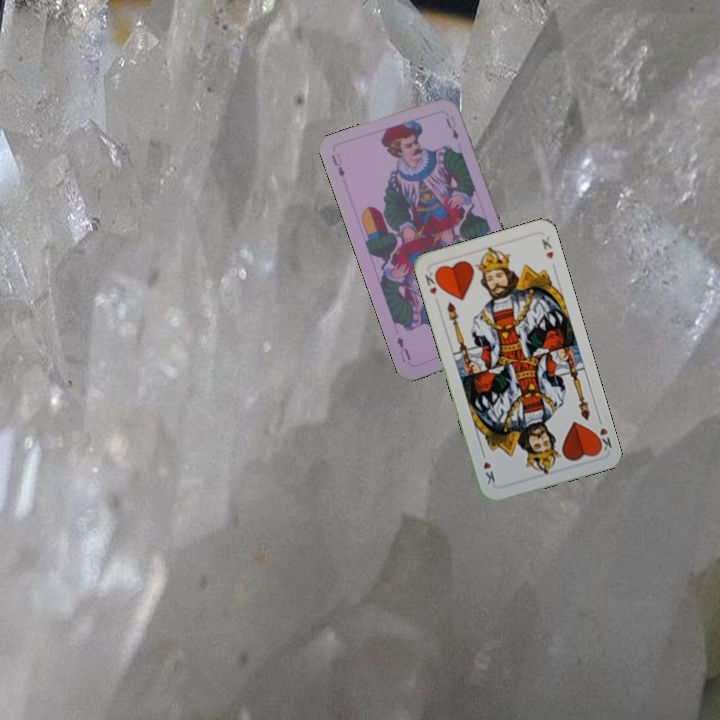EU: (327, 149, 347, 180)
HK: (591, 413, 614, 454), (421, 267, 443, 297)
